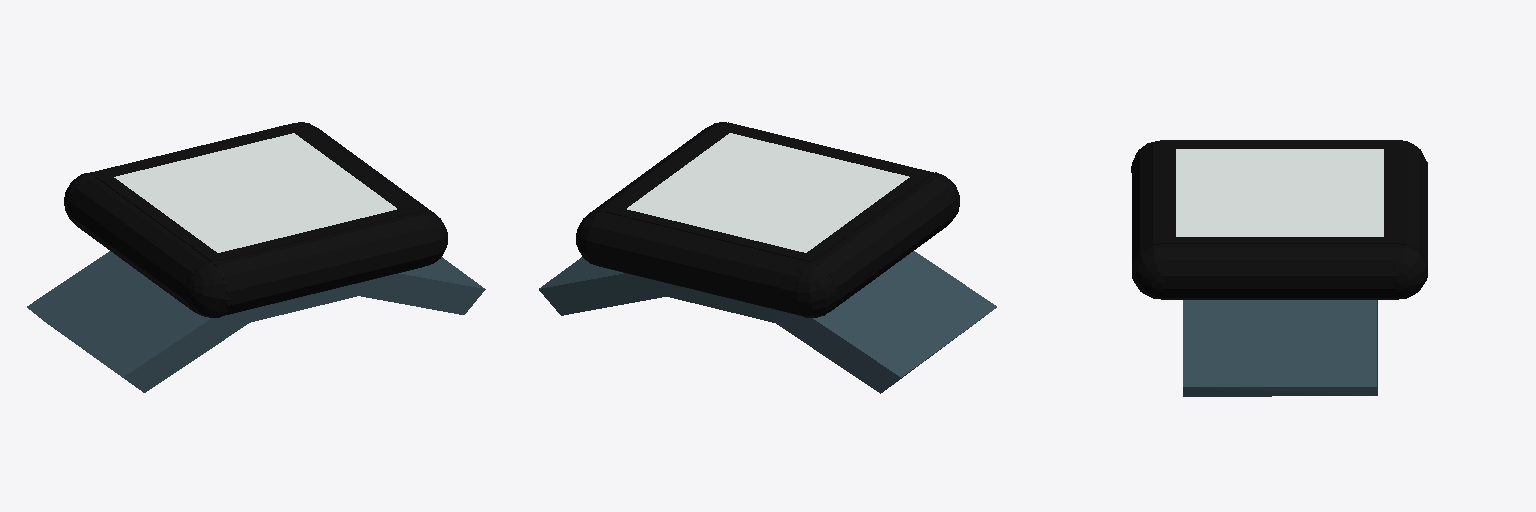
3 renders of one model, left to right at view 1: azimuth 30°, elevation 25°; view 2: azimuth 150°, elevation 25°; view 3: azimuth 270°, elevation 25°, orthographic.
Visible parts, largest first — view 1: Mesh3 G_3DGeom_3 mesh[number redacted] TempSimLab_2019_11_22_08_35_00_1 , Mesh4 G_3DGeom_4 mesh[number redacted] TempSimLab_2019_11_22_08_35_00_1 , Mesh12 G_3DGeom_21 mesh[number redacted] TempSimLab_2019_11_22_08_35_00_, Mesh11 G_3DGeom_19 mesh[number redacted] TempSimLab_2019_11_22_08_35_00, Mesh10 G_3DGeom_14 mesh[number redacted] TempSimLab_2019_11_22_08_35_00_, Mesh15 G_3DGeom_24 mesh[number redacted] TempSimLab_2019_11_22_08_35_00_, Mesh6 G_3DGeom_7 mesh[number redacted] TempSimLab_2019_11_22_08_35_00_1, Mesh2 G_3DGeom_2 mesh[number redacted] TempSimLab_2019_11_22_08_35_00_1, Mesh13 G_3DGeom_22 mesh[number redacted] TempSimLab_2019_11_22_08_35_00_1, Mesh7 G_3DGeom_8 mesh[number redacted] TempSimLab_2019_11_22_08_35_00_1, Mesh5 G_3DGeom_6 mesh[number redacted] TempSimLab_2019_11_22_08_35_00_1, Mesh8 G_3DGeom_10 mesh[number redacted] TempSimLab_2019_11_22_08_35_00_ (+2 smaller); view 2: Mesh3 G_3DGeom_3 mesh[number redacted] TempSimLab_2019_11_22_08_35_00_1 , Mesh4 G_3DGeom_4 mesh[number redacted] TempSimLab_2019_11_22_08_35_00_1 , Mesh17 G_3DGeom_26 mesh[number redacted] TempSimLab_2019_11_22_08_35_00_, Mesh11 G_3DGeom_19 mesh[number redacted] TempSimLab_2019_11_22_08_35_00, Mesh10 G_3DGeom_14 mesh[number redacted] TempSimLab_2019_11_22_08_35_00_, Mesh16 G_3DGeom_25 mesh[number redacted] TempSimLab_2019_11_22_08_35_00_, Mesh5 G_3DGeom_6 mesh[number redacted] TempSimLab_2019_11_22_08_35_00_1, Mesh13 G_3DGeom_22 mesh[number redacted] TempSimLab_2019_11_22_08_35_00_1, Mesh2 G_3DGeom_2 mesh[number redacted] TempSimLab_2019_11_22_08_35_00_1, Mesh7 G_3DGeom_8 mesh[number redacted] TempSimLab_2019_11_22_08_35_00_1, Mesh6 G_3DGeom_7 mesh[number redacted] TempSimLab_2019_11_22_08_35_00_1, Mesh8 G_3DGeom_10 mesh[number redacted] TempSimLab_2019_11_22_08_35_00_ (+2 smaller); view 3: Mesh10 G_3DGeom_14 mesh[number redacted] TempSimLab_2019_11_22_08_35_00_, Mesh3 G_3DGeom_3 mesh[number redacted] TempSimLab_2019_11_22_08_35_00_1 , Mesh8 G_3DGeom_10 mesh[number redacted] TempSimLab_2019_11_22_08_35_00_, Mesh12 G_3DGeom_21 mesh[number redacted] TempSimLab_2019_11_22_08_35_00_, Mesh17 G_3DGeom_26 mesh[number redacted] TempSimLab_2019_11_22_08_35_00_, Mesh2 G_3DGeom_2 mesh[number redacted] TempSimLab_2019_11_22_08_35_00_1, Mesh9 G_3DGeom_13 mesh[number redacted] TempSimLab_2019_11_22_08_35_00_, Mesh1 G_3DGeom_1 mesh[number redacted] TempSimLab_2019_11_22_08_35_00_1, Mesh7 G_3DGeom_8 mesh[number redacted] TempSimLab_2019_11_22_08_35_00_1, Mesh6 G_3DGeom_7 mesh[number redacted] TempSimLab_2019_11_22_08_35_00_1, Mesh5 G_3DGeom_6 mesh[number redacted] TempSimLab_2019_11_22_08_35_00_1, Mesh11 G_3DGeom_19 mesh[number redacted] TempSimLab_2019_11_22_08_35_00.
Boxes of the visible parts, box(x1,y1,x2,y2) form: Mesh3 G_3DGeom_3 mesh[number redacted] TempSimLab_2019_11_22_08_35_00_1 : box(114, 133, 396, 252); Mesh4 G_3DGeom_4 mesh[number redacted] TempSimLab_2019_11_22_08_35_00_1 : box(27, 251, 249, 392); Mesh12 G_3DGeom_21 mesh[number redacted] TempSimLab_2019_11_22_08_35_00_: box(214, 213, 432, 315); Mesh11 G_3DGeom_19 mesh[number redacted] TempSimLab_2019_11_22_08_35_00: box(69, 177, 210, 311); Mesh10 G_3DGeom_14 mesh[number redacted] TempSimLab_2019_11_22_08_35_00_: box(359, 257, 485, 314); Mesh15 G_3DGeom_24 mesh[number redacted] TempSimLab_2019_11_22_08_35_00_: box(184, 261, 231, 317); Mesh6 G_3DGeom_7 mesh[number redacted] TempSimLab_2019_11_22_08_35_00_1: box(205, 207, 412, 261); Mesh2 G_3DGeom_2 mesh[number redacted] TempSimLab_2019_11_22_08_35_00_1: box(287, 124, 418, 214); Mesh13 G_3DGeom_22 mesh[number redacted] TempSimLab_2019_11_22_08_35_00_1: box(247, 282, 361, 322); Mesh7 G_3DGeom_8 mesh[number redacted] TempSimLab_2019_11_22_08_35_00_1: box(94, 173, 224, 261); Mesh5 G_3DGeom_6 mesh[number redacted] TempSimLab_2019_11_22_08_35_00_1: box(94, 126, 306, 180); Mesh8 G_3DGeom_10 mesh[number redacted] TempSimLab_2019_11_22_08_35_00_: box(301, 124, 436, 215); Mesh3 G_3DGeom_3 mesh[number redacted] TempSimLab_2019_11_22_08_35_00_1 : box(627, 133, 909, 252); Mesh4 G_3DGeom_4 mesh[number redacted] TempSimLab_2019_11_22_08_35_00_1 : box(775, 251, 996, 393); Mesh17 G_3DGeom_26 mesh[number redacted] TempSimLab_2019_11_22_08_35_00_: box(591, 212, 807, 315); Mesh11 G_3DGeom_19 mesh[number redacted] TempSimLab_2019_11_22_08_35_00: box(815, 176, 955, 312); Mesh10 G_3DGeom_14 mesh[number redacted] TempSimLab_2019_11_22_08_35_00_: box(539, 257, 666, 315); Mesh16 G_3DGeom_25 mesh[number redacted] TempSimLab_2019_11_22_08_35_00_: box(794, 261, 837, 317); Mesh5 G_3DGeom_6 mesh[number redacted] TempSimLab_2019_11_22_08_35_00_1: box(618, 209, 817, 261); Mesh13 G_3DGeom_22 mesh[number redacted] TempSimLab_2019_11_22_08_35_00_1: box(662, 282, 777, 322); Mesh2 G_3DGeom_2 mesh[number redacted] TempSimLab_2019_11_22_08_35_00_1: box(605, 124, 736, 214); Mesh7 G_3DGeom_8 mesh[number redacted] TempSimLab_2019_11_22_08_35_00_1: box(799, 172, 928, 260); Mesh6 G_3DGeom_7 mesh[number redacted] TempSimLab_2019_11_22_08_35_00_1: box(721, 126, 929, 180); Mesh8 G_3DGeom_10 mesh[number redacted] TempSimLab_2019_11_22_08_35_00_: box(587, 124, 722, 215); Mesh10 G_3DGeom_14 mesh[number redacted] TempSimLab_2019_11_22_08_35_00_: box(1183, 300, 1377, 396); Mesh3 G_3DGeom_3 mesh[number redacted] TempSimLab_2019_11_22_08_35_00_1 : box(1176, 149, 1383, 236); Mesh8 G_3DGeom_10 mesh[number redacted] TempSimLab_2019_11_22_08_35_00_: box(1161, 244, 1398, 299); Mesh12 G_3DGeom_21 mesh[number redacted] TempSimLab_2019_11_22_08_35_00_: box(1132, 144, 1160, 262); Mesh17 G_3DGeom_26 mesh[number redacted] TempSimLab_2019_11_22_08_35_00_: box(1399, 144, 1427, 277); Mesh2 G_3DGeom_2 mesh[number redacted] TempSimLab_2019_11_22_08_35_00_1: box(1161, 237, 1398, 243); Mesh9 G_3DGeom_13 mesh[number redacted] TempSimLab_2019_11_22_08_35_00_: box(1132, 245, 1167, 298); Mesh1 G_3DGeom_1 mesh[number redacted] TempSimLab_2019_11_22_08_35_00_1: box(1392, 245, 1426, 298); Mesh7 G_3DGeom_8 mesh[number redacted] TempSimLab_2019_11_22_08_35_00_1: box(1161, 143, 1398, 148); Mesh6 G_3DGeom_7 mesh[number redacted] TempSimLab_2019_11_22_08_35_00_1: box(1161, 143, 1175, 243); Mesh5 G_3DGeom_6 mesh[number redacted] TempSimLab_2019_11_22_08_35_00_1: box(1384, 143, 1398, 243); Mesh11 G_3DGeom_19 mesh[number redacted] TempSimLab_2019_11_22_08_35_00: box(1161, 140, 1398, 142).
Bounding box in the file's own units: 11.09 × 3.67 × 7.86.